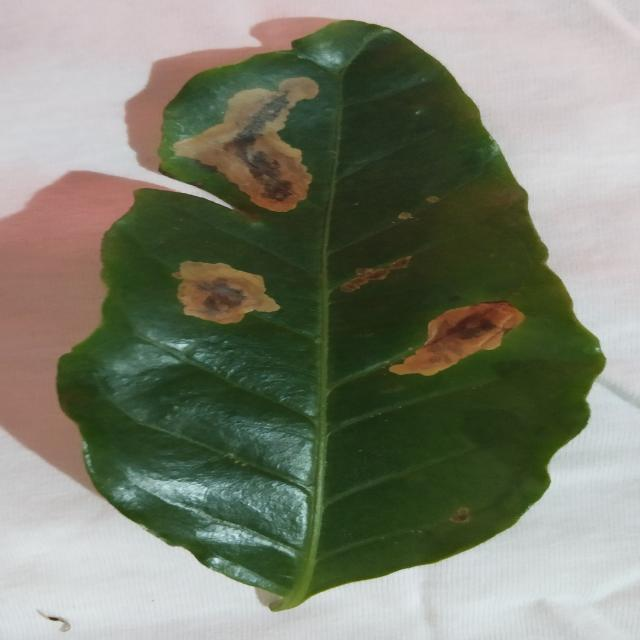Plaga-Minador: (54, 21, 607, 614)
